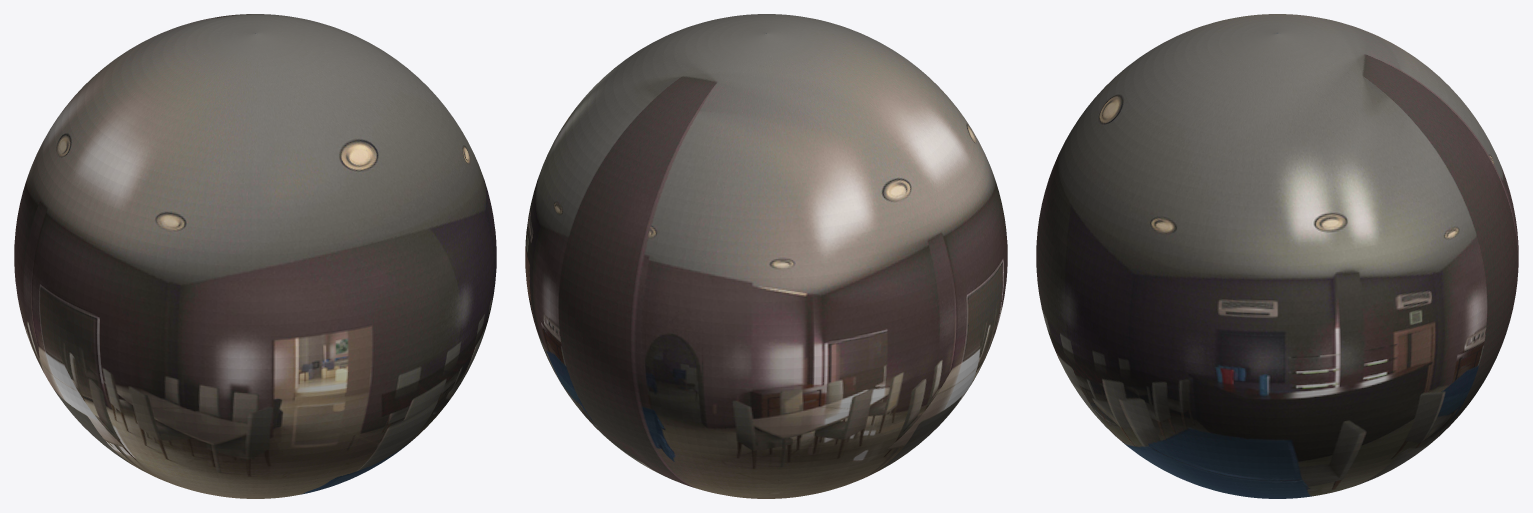
File: restaurante.glb
3 renders of one model, left to right at view 1: azimuth 30°, elevation 25°; view 2: azimuth 150°, elevation 25°; view 3: azimuth 270°, elevation 25°, orthographic.
Parts seen in each view (by area): view 1: Sphere; view 2: Sphere; view 3: Sphere.
Part boxes in pixels (<box>): Sphere: <box>14,14,496,498</box>; Sphere: <box>525,14,1007,498</box>; Sphere: <box>1036,14,1518,498</box>.
Bounding box in the file's own units: 1.98 × 2.02 × 1.98.
Materials: 1 (1 with a texture image).
